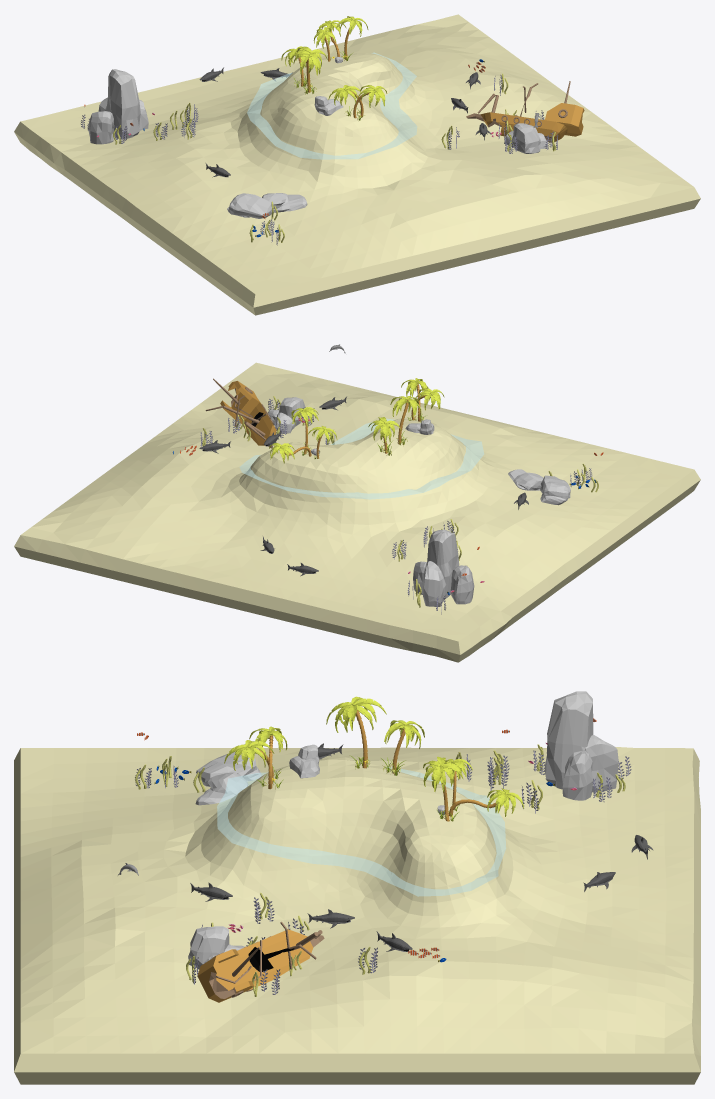
File: island1.glb
3 views of the same model, one above another, from view 1: azimuth 30°, elevation 25°; view 2: azimuth 150°, elevation 25°; view 3: azimuth 270°, elevation 25° (orthographic). The views are drawn at different scales.
Parts seen in each view (by area): view 1: YW1-material, WE2-material.011, WE1-material.004, BN-material.005, WE1-material.008, WE1-material, GN1-material.007, GN1-material.013, BN2-material, WE1-material.007; view 2: YW1-material, WE1-material.004, WE2-material.011, BN-material.005, GN1-material.013, WE1-material.008, GN1-material.007, WE1-material, BN2-material, WE1-material.007; view 3: YW1-material, WE1-material.004, WE2-material.011, BN-material.005, BN2-material, GN1-material.007, GN1-material.013, WE1-material.008, WE1-material, WE1-material.007, WE1-material.003, GN1-material.015.
Part boxes in pixels (bbox=[...]): YW1-material: bbox=[14, 14, 700, 315]; WE2-material.011: bbox=[247, 52, 417, 159]; WE1-material.004: bbox=[88, 69, 148, 144]; BN-material.005: bbox=[480, 103, 584, 141]; WE1-material.008: bbox=[504, 123, 547, 153]; WE1-material: bbox=[227, 193, 271, 218]; GN1-material.007: bbox=[281, 46, 327, 75]; GN1-material.013: bbox=[313, 16, 368, 48]; BN2-material: bbox=[466, 81, 570, 142]; WE1-material.007: bbox=[262, 193, 307, 212]; YW1-material: bbox=[14, 362, 700, 662]; WE1-material.004: bbox=[413, 529, 474, 606]; WE2-material.011: bbox=[239, 418, 483, 499]; BN-material.005: bbox=[220, 381, 276, 445]; GN1-material.013: bbox=[269, 407, 337, 463]; WE1-material.008: bbox=[268, 397, 305, 433]; GN1-material.007: bbox=[368, 396, 421, 442]; WE1-material: bbox=[540, 475, 570, 505]; BN2-material: bbox=[205, 378, 273, 448]; WE1-material.007: bbox=[508, 469, 543, 490]; YW1-material: bbox=[14, 747, 700, 1084]; WE1-material.004: bbox=[544, 691, 618, 800]; WE2-material.011: bbox=[217, 767, 505, 896]; BN-material.005: bbox=[197, 929, 313, 1002]; BN2-material: bbox=[209, 921, 324, 998]; GN1-material.007: bbox=[326, 696, 424, 748]; GN1-material.013: bbox=[423, 756, 523, 816]; WE1-material.008: bbox=[188, 926, 244, 969]; WE1-material: bbox=[196, 752, 261, 786]; WE1-material.007: bbox=[195, 772, 248, 805]; WE1-material.003: bbox=[289, 744, 319, 778]; GN1-material.015: bbox=[224, 740, 274, 770].
Size of the model in its own units: 7.8 by 2.29 by 7.24.
